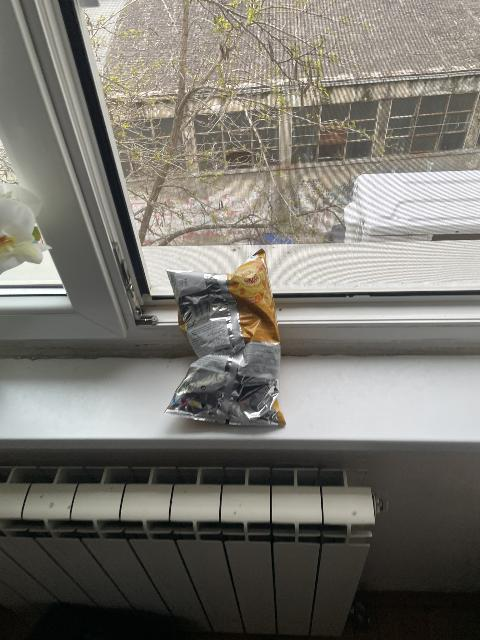Chio Hula Hoops Cheese 70g: (163, 251, 288, 425)
